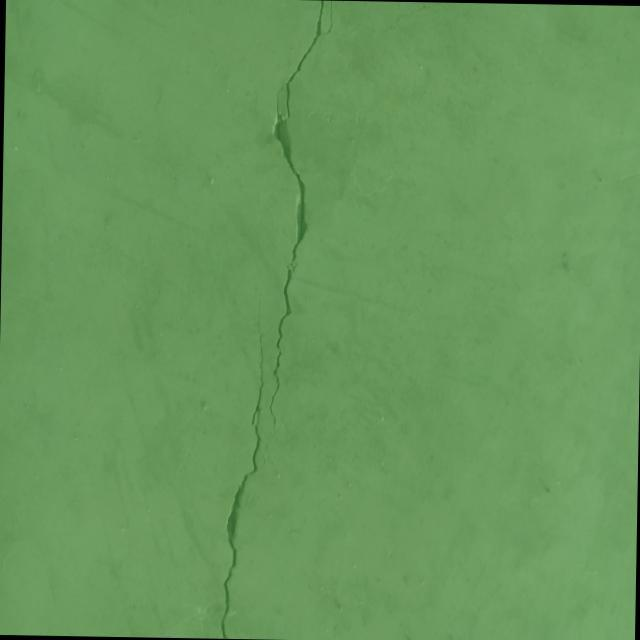crack: (217, 0, 426, 640)
